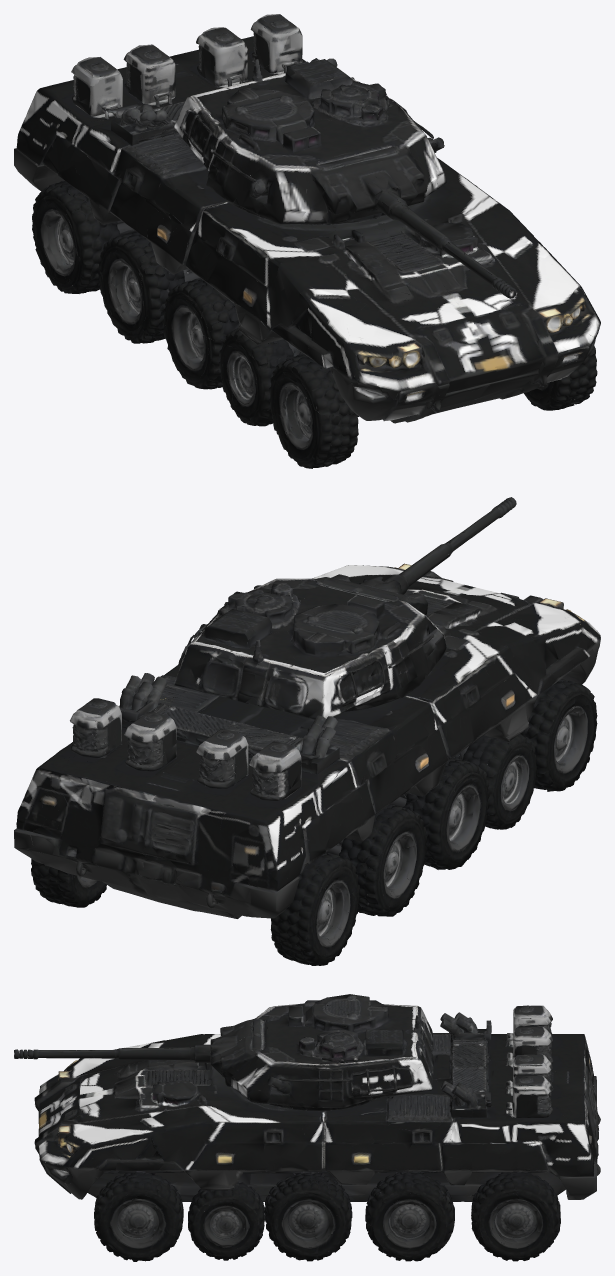
The model's file is bastion-apc.glb.
The picture shows the model from 3 angles, top to bottom: view 1: azimuth 30°, elevation 25°; view 2: azimuth 150°, elevation 25°; view 3: azimuth 270°, elevation 25°; orthographic projection. The views are drawn at different scales.
Parts seen in each view (by area): view 1: bastion-apc; view 2: bastion-apc; view 3: bastion-apc.
Part boxes in pixels (<box>): bastion-apc: <box>14,14,600,468</box>; bastion-apc: <box>14,497,600,965</box>; bastion-apc: <box>14,994,600,1261</box>.
Bounding box in the file's own units: 3.28 × 2.76 × 7.5.
Materials: 1 (1 with a texture image).
